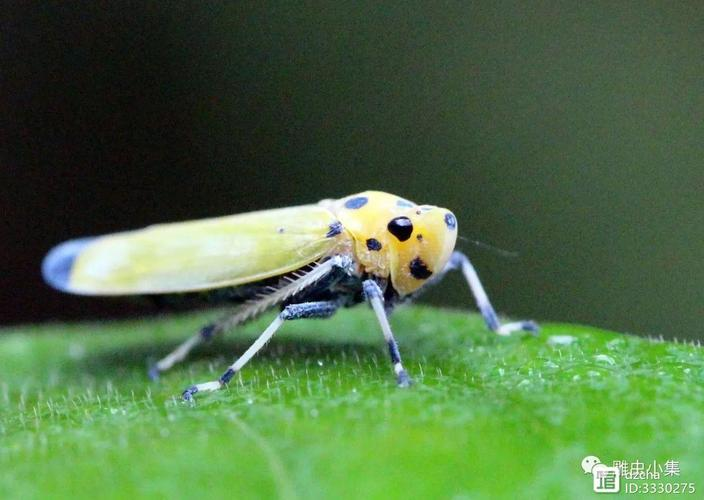Cicadellidae: (40, 188, 537, 390)
